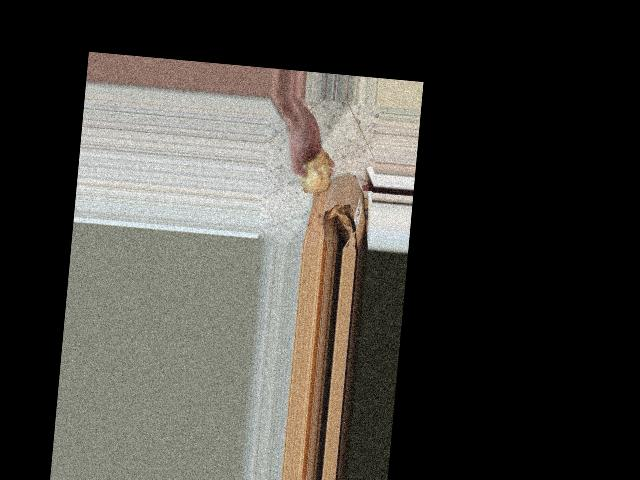onion: (294, 146, 333, 197)
